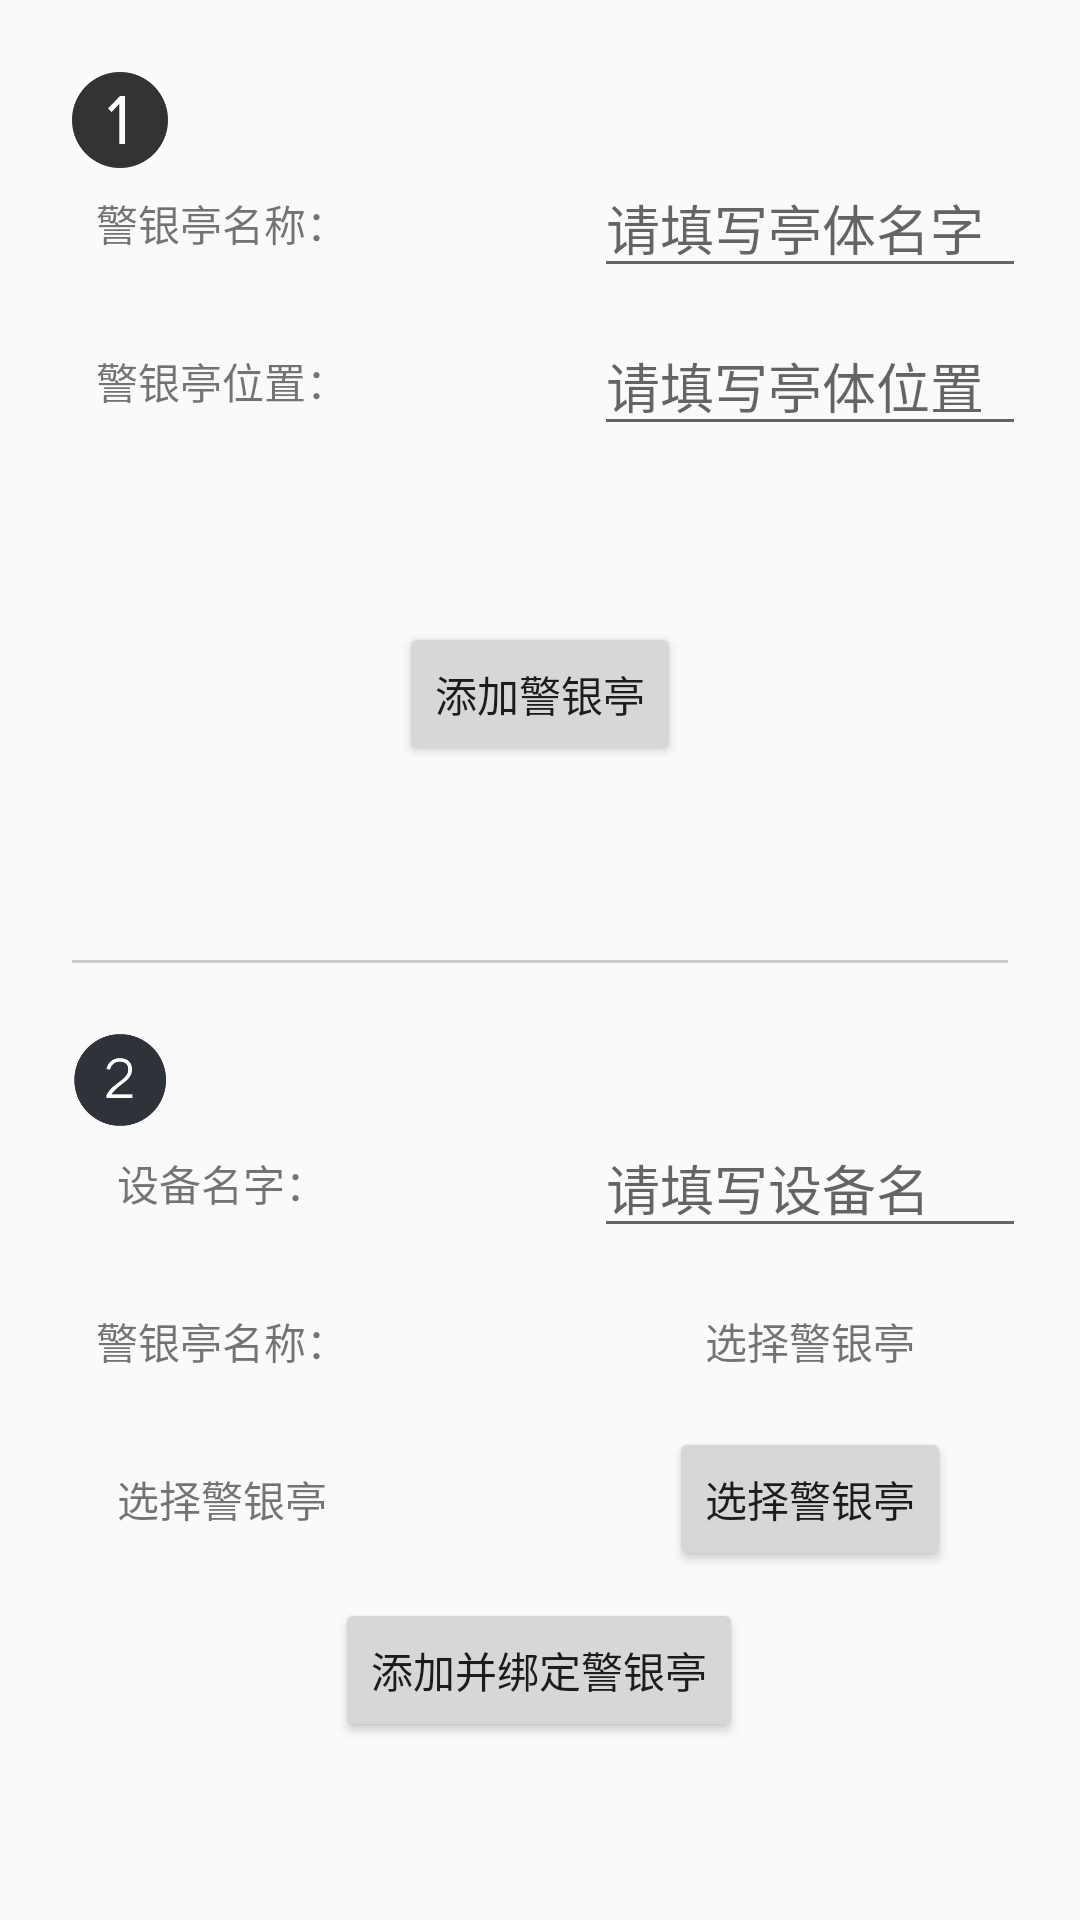

Screen size 1080 x 1920. Icon name, then its box in pixels as {"x1": x1, "y1": y1, "x2": x2, "y2": y2}:
方式一: {"x1": 72, "y1": 72, "x2": 168, "y2": 168}
方式二: {"x1": 74, "y1": 1034, "x2": 166, "y2": 1126}
